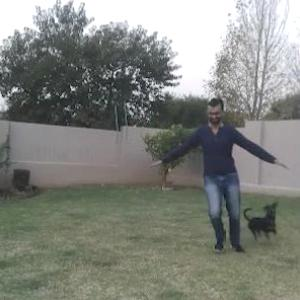land: (141, 96, 285, 256)
